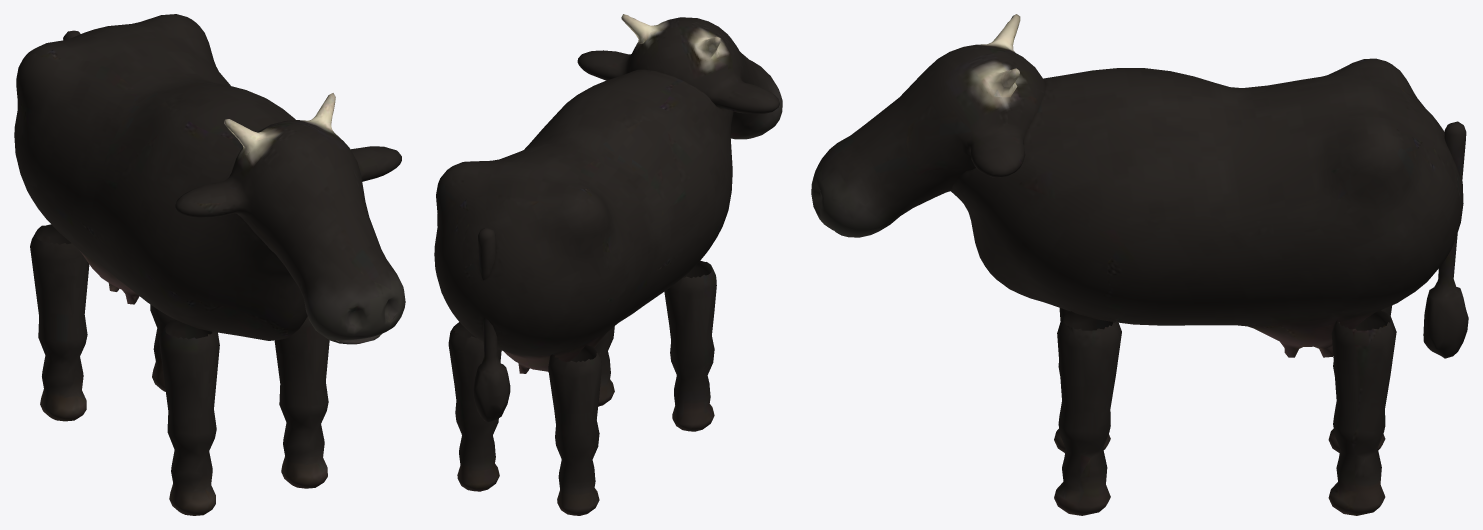
Rendered from animal_dexter.glb.
The picture shows the model from 3 angles, left to right: view 1: azimuth 30°, elevation 25°; view 2: azimuth 150°, elevation 25°; view 3: azimuth 270°, elevation 25°; orthographic projection. The views are drawn at different scales.
Parts seen in each view (by area): view 1: animal_dexter, head, leg0, leg2, leg1, leg3; view 2: animal_dexter, head, leg2, leg0, leg3, tail, leg1; view 3: animal_dexter, head, leg1, leg3, tail.
Part boxes in pixels (left/top/right/bottom): animal_dexter: left=14, top=14, right=307, bottom=340; head: left=175, top=93, right=405, bottom=344; leg0: left=159, top=320, right=219, bottom=515; leg2: left=30, top=224, right=89, bottom=421; leg1: left=274, top=316, right=329, bottom=488; leg3: left=150, top=304, right=175, bottom=391; animal_dexter: left=434, top=69, right=733, bottom=373; head: left=577, top=14, right=782, bottom=139; leg2: left=548, top=345, right=601, bottom=515; leg0: left=664, top=260, right=716, bottom=431; leg3: left=448, top=322, right=501, bottom=491; tail: left=473, top=228, right=510, bottom=422; leg1: left=595, top=326, right=614, bottom=406; animal_dexter: left=951, top=58, right=1463, bottom=357; head: left=811, top=14, right=1045, bottom=237; leg1: left=1054, top=311, right=1121, bottom=515; leg3: left=1328, top=310, right=1396, bottom=515; tail: left=1423, top=121, right=1468, bottom=358.
Size of the model in its own units: 0.2513 by 0.4476 by 0.6034.
1 material, 1 textured.
